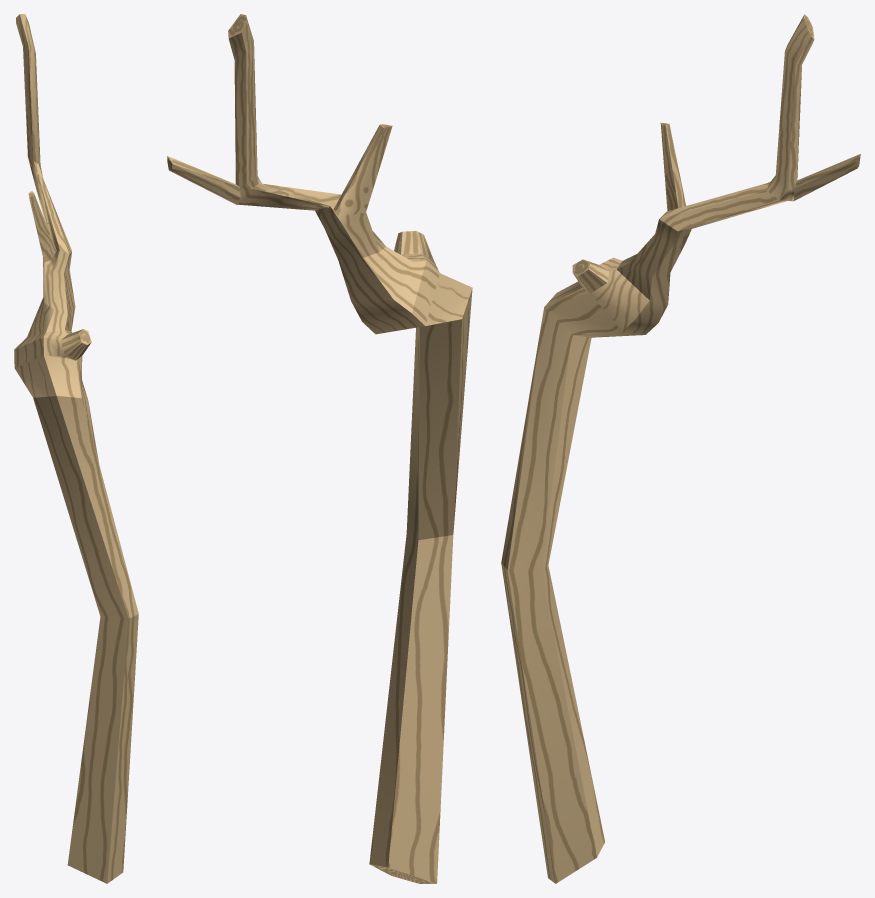
The model's file is Oksa01.fbx.
3 renders of one model, left to right at view 1: azimuth 30°, elevation 25°; view 2: azimuth 150°, elevation 25°; view 3: azimuth 270°, elevation 25°, orthographic. The views are drawn at different scales.
Visible parts, largest first — view 1: Oksa; view 2: Oksa; view 3: Oksa.
Part boxes in pixels (<box>): Oksa: <box>14,14,138,883</box>; Oksa: <box>167,14,472,883</box>; Oksa: <box>501,14,860,883</box>.
Size of the model in its own units: 31.78 by 196 by 72.79.
